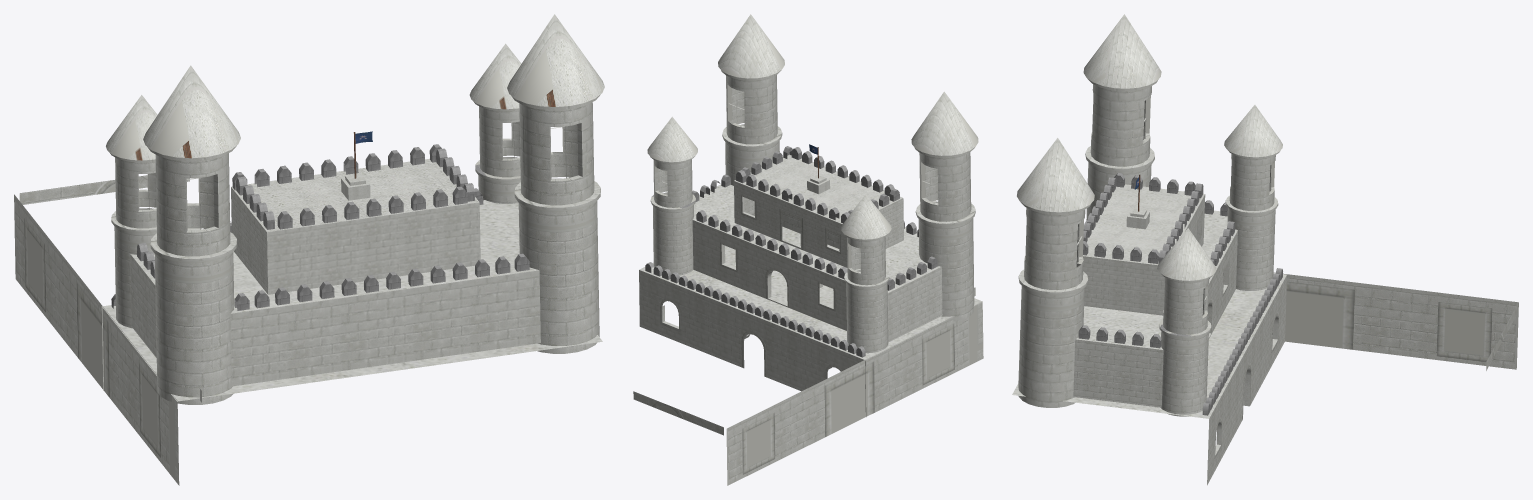
The model's file is castleInterior.obj.
The picture shows the model from 3 angles, left to right: view 1: azimuth 30°, elevation 25°; view 2: azimuth 150°, elevation 25°; view 3: azimuth 270°, elevation 25°; orthographic projection. The views are drawn at different scales.
Visible parts, largest first — view 1: Castle_interior_Castle_OBJ.003; view 2: Castle_interior_Castle_OBJ.003; view 3: Castle_interior_Castle_OBJ.003.
Part boxes in pixels (<box>): Castle_interior_Castle_OBJ.003: <box>14,14,604,485</box>; Castle_interior_Castle_OBJ.003: <box>633,14,983,485</box>; Castle_interior_Castle_OBJ.003: <box>1012,14,1518,485</box>.
Size of the model in its own units: 21.48 by 19.62 by 27.24.
1 material, 1 textured.
